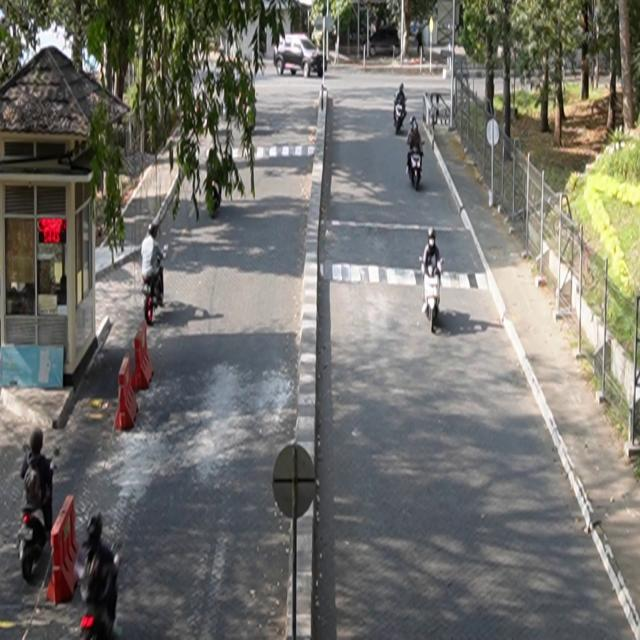car: (274, 34, 329, 78)
